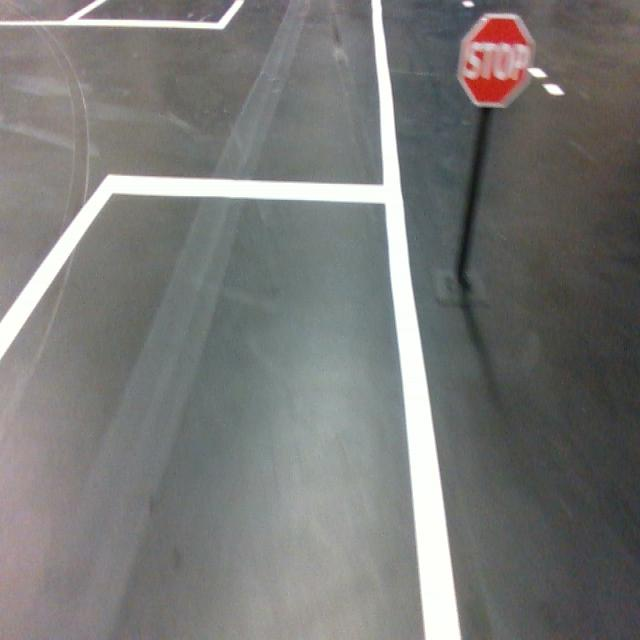stop-sign: (456, 12, 538, 110)
